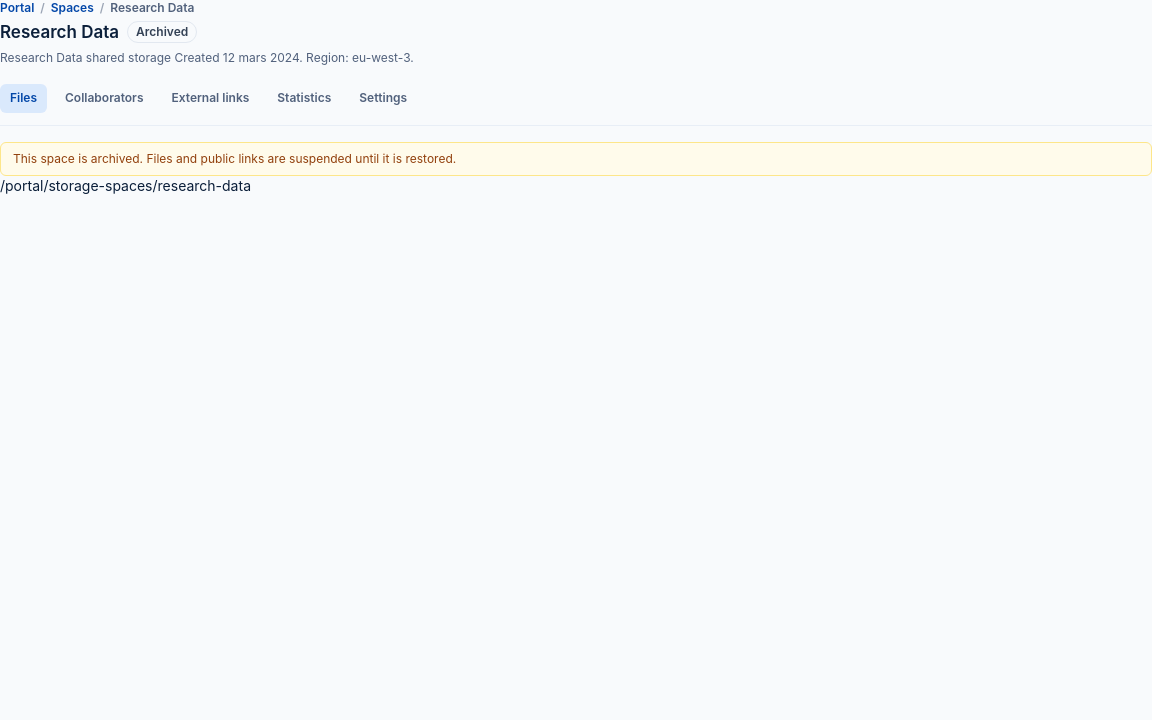
Test: PortalStorageSpaceDetailPage › asks to restore an archived non-empty space before cleanup
The image size is (1152, 720).
Click the tab "Settings". click: (383, 98)
box: x1=349 y1=84 x2=417 y2=112
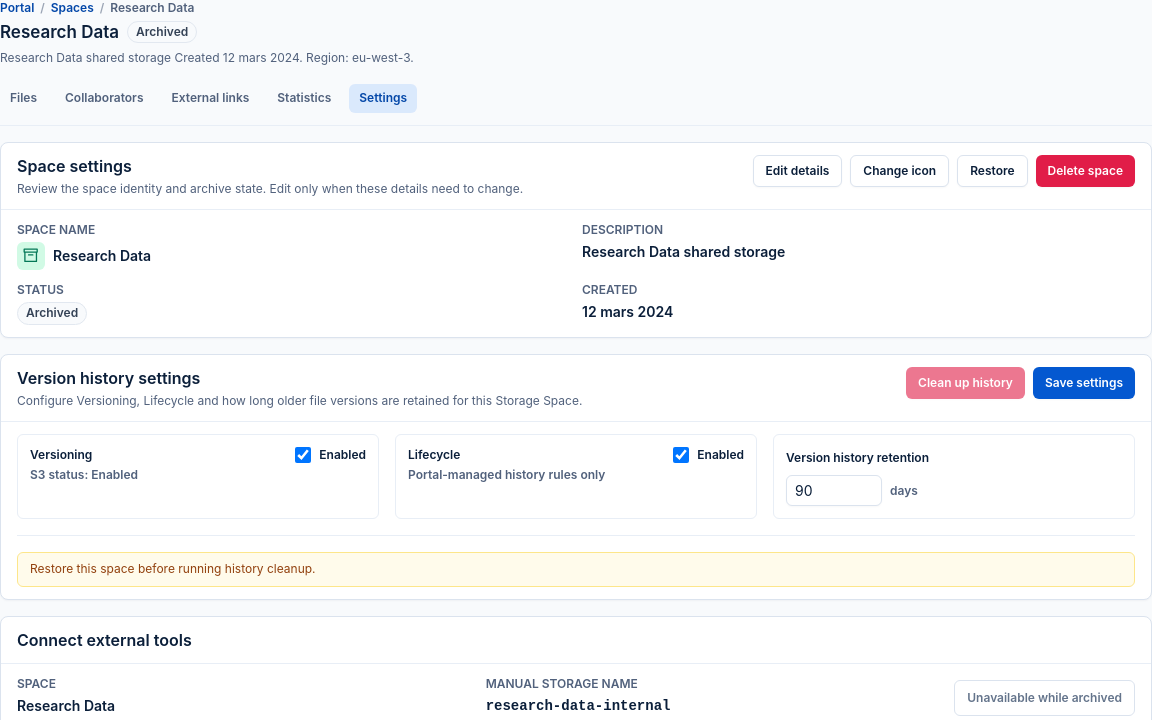
Now the checkbox named "Versioning" is shown, box x1=295 y1=447 x2=311 y2=463
Click the button "Delete space". click: (1085, 170)
box: x1=1036 y1=154 x2=1135 y2=186
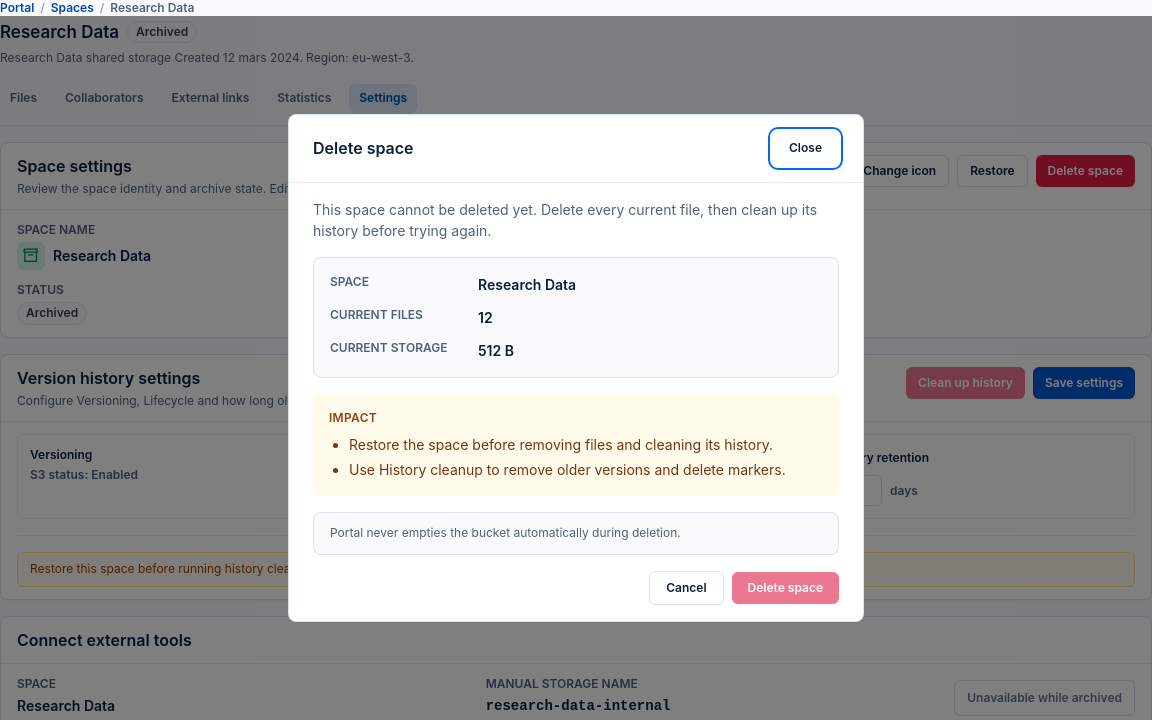
Now the list item "Restore the space before removing files and cleaning its history" is shown, box x1=349 y1=436 x2=773 y2=453
